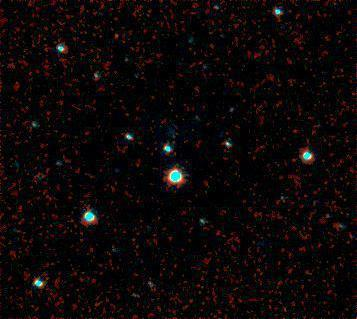star: (97, 24, 127, 54)
